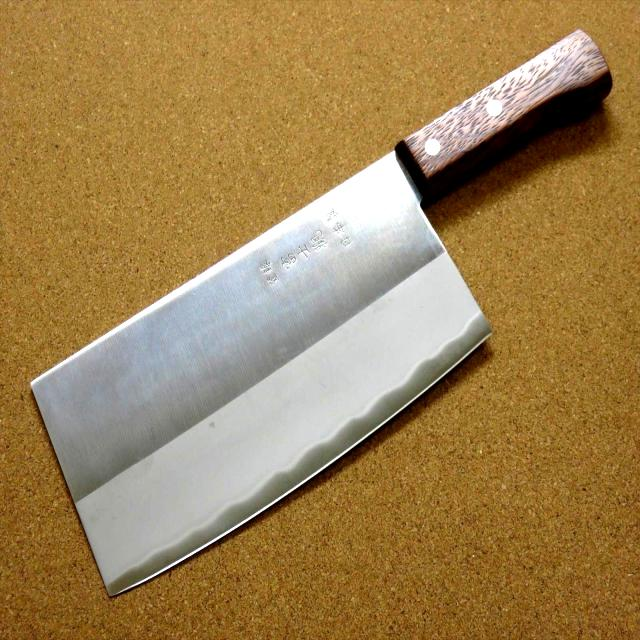cleaver: (29, 26, 613, 589)
